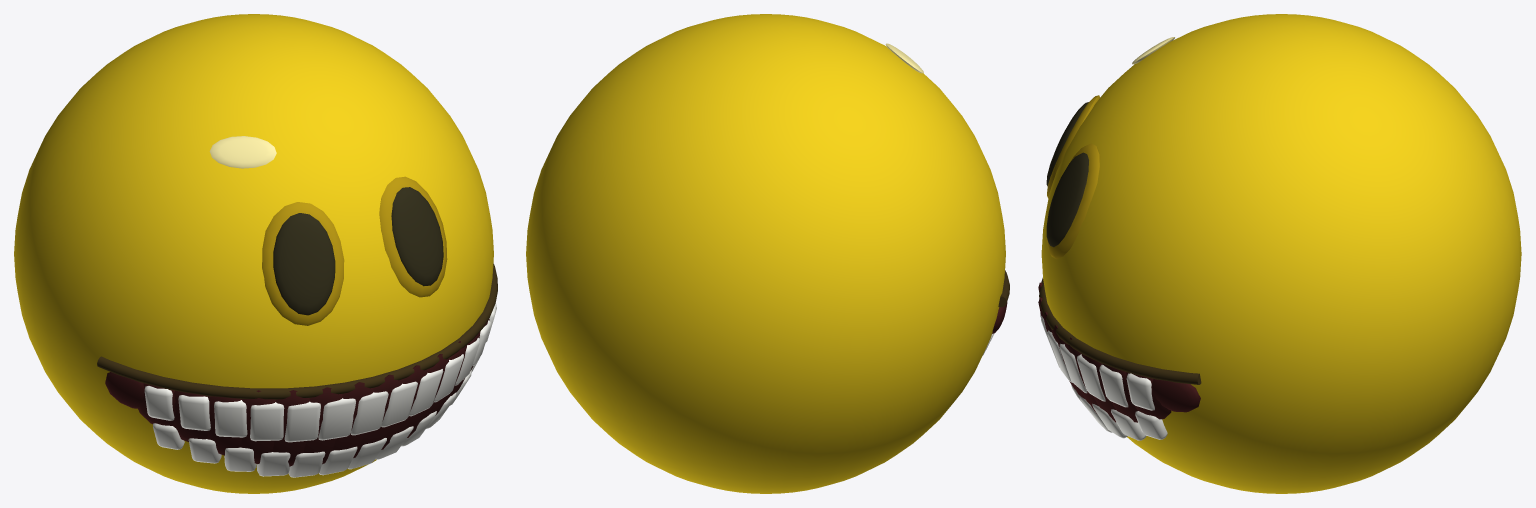
File: Verity.fbx
3 views of the same model, side by side, from view 1: azimuth 30°, elevation 25°; view 2: azimuth 150°, elevation 25°; view 3: azimuth 270°, elevation 25° (orthographic).
Parts seen in each view (by area): view 1: Body_F2CF14, Teeth_FBFBF4, Sockets_2E2A16, Mouth_3E1414, SocketRim_B8960C, Lip_3A2C10, Shine_FFF2A6; view 2: Body_F2CF14; view 3: Body_F2CF14, Teeth_FBFBF4, Mouth_3E1414, Sockets_2E2A16, Lip_3A2C10, SocketRim_B8960C.
Part boxes in pixels (x1=…): Body_F2CF14: x1=14, y1=14, x2=493, y2=493; Teeth_FBFBF4: x1=144, y1=303, x2=496, y2=477; Sockets_2E2A16: x1=273, y1=187, x2=443, y2=315; Mouth_3E1414: x1=105, y1=319, x2=489, y2=466; SocketRim_B8960C: x1=262, y1=176, x2=447, y2=325; Lip_3A2C10: x1=97, y1=263, x2=497, y2=399; Shine_FFF2A6: x1=209, y1=136, x2=276, y2=168; Body_F2CF14: x1=526, y1=14, x2=1005, y2=493; Body_F2CF14: x1=1041, y1=14, x2=1521, y2=493; Teeth_FBFBF4: x1=1040, y1=312, x2=1167, y2=440; Mouth_3E1414: x1=1038, y1=282, x2=1200, y2=422; Sockets_2E2A16: x1=1046, y1=102, x2=1088, y2=247; Lip_3A2C10: x1=1039, y1=278, x2=1201, y2=384; SocketRim_B8960C: x1=1047, y1=95, x2=1100, y2=259.
Bounding box in the file's own units: 4 × 4 × 4.03.
